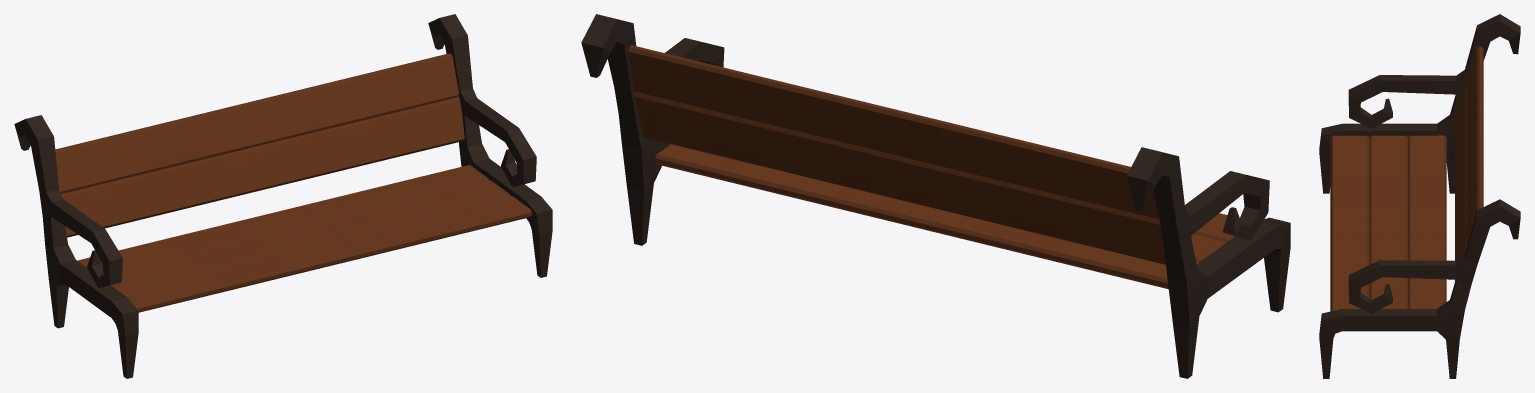
The model's file is Bench_01.fbx.
3 renders of one model, left to right at view 1: azimuth 30°, elevation 25°; view 2: azimuth 150°, elevation 25°; view 3: azimuth 270°, elevation 25°, orthographic. The views are drawn at different scales.
Visible parts, largest first — view 1: bench; view 2: bench; view 3: bench.
Part boxes in pixels (x1=…): bench: x1=14, y1=14, x2=552, y2=378; bench: x1=581, y1=14, x2=1290, y2=378; bench: x1=1319, y1=14, x2=1520, y2=378.
Bounding box in the file's own units: 2.87 × 1.22 × 1.27.
